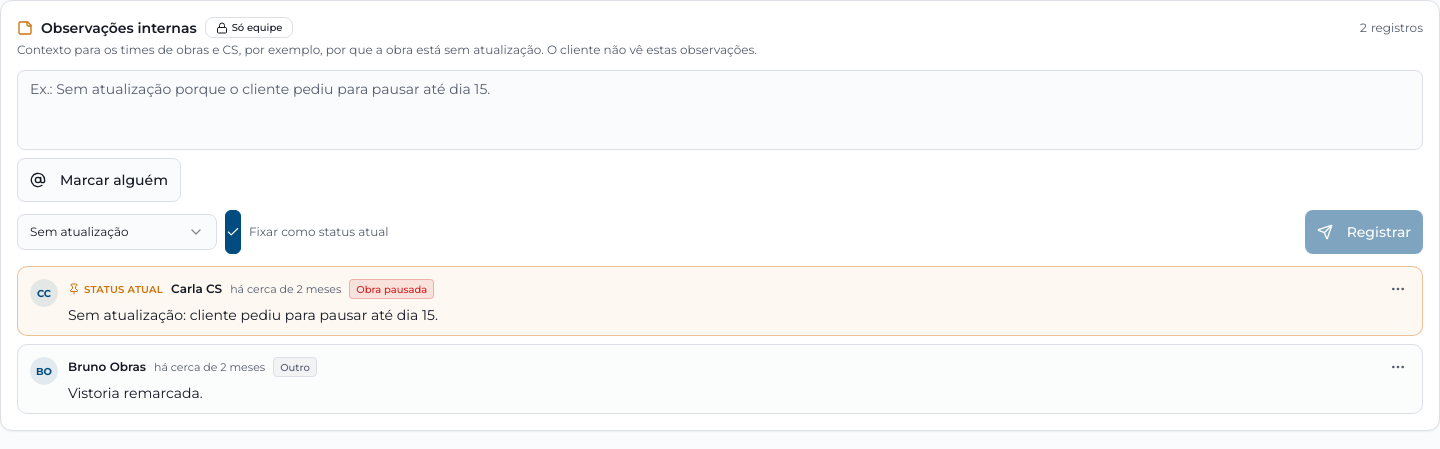
InternalNotesCard › na própria nota, o autor pode editar e remover
Click the button named "Ações da observação" in the row of "Obra pausada".
click(1398, 289)  # box [1386, 277, 1410, 301]
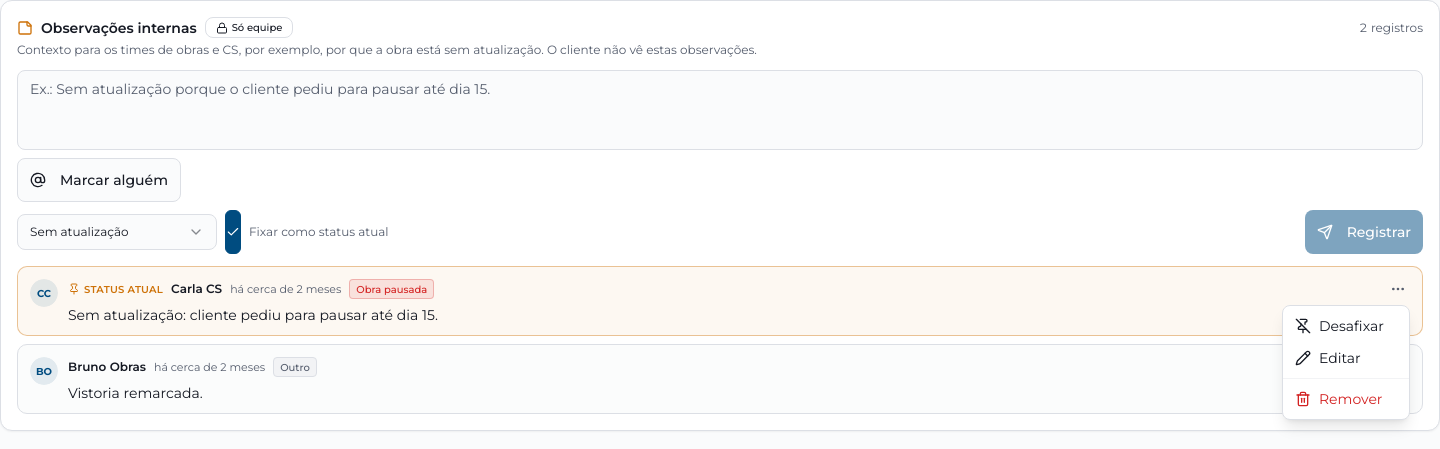
Result: the menu item "Editar" is shown at [1295, 349, 1361, 367]
Result: the menu item "Remover" is shown at [1295, 390, 1382, 408]
Result: the menu item "Desafixar" is shown at [1295, 317, 1384, 335]
